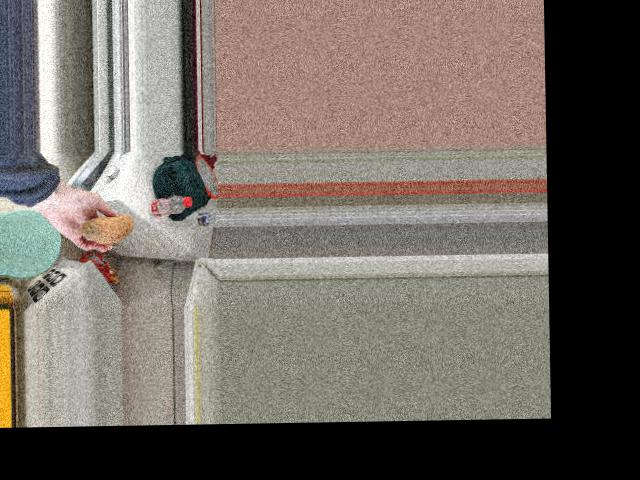sweet_potato: (71, 211, 138, 240)
